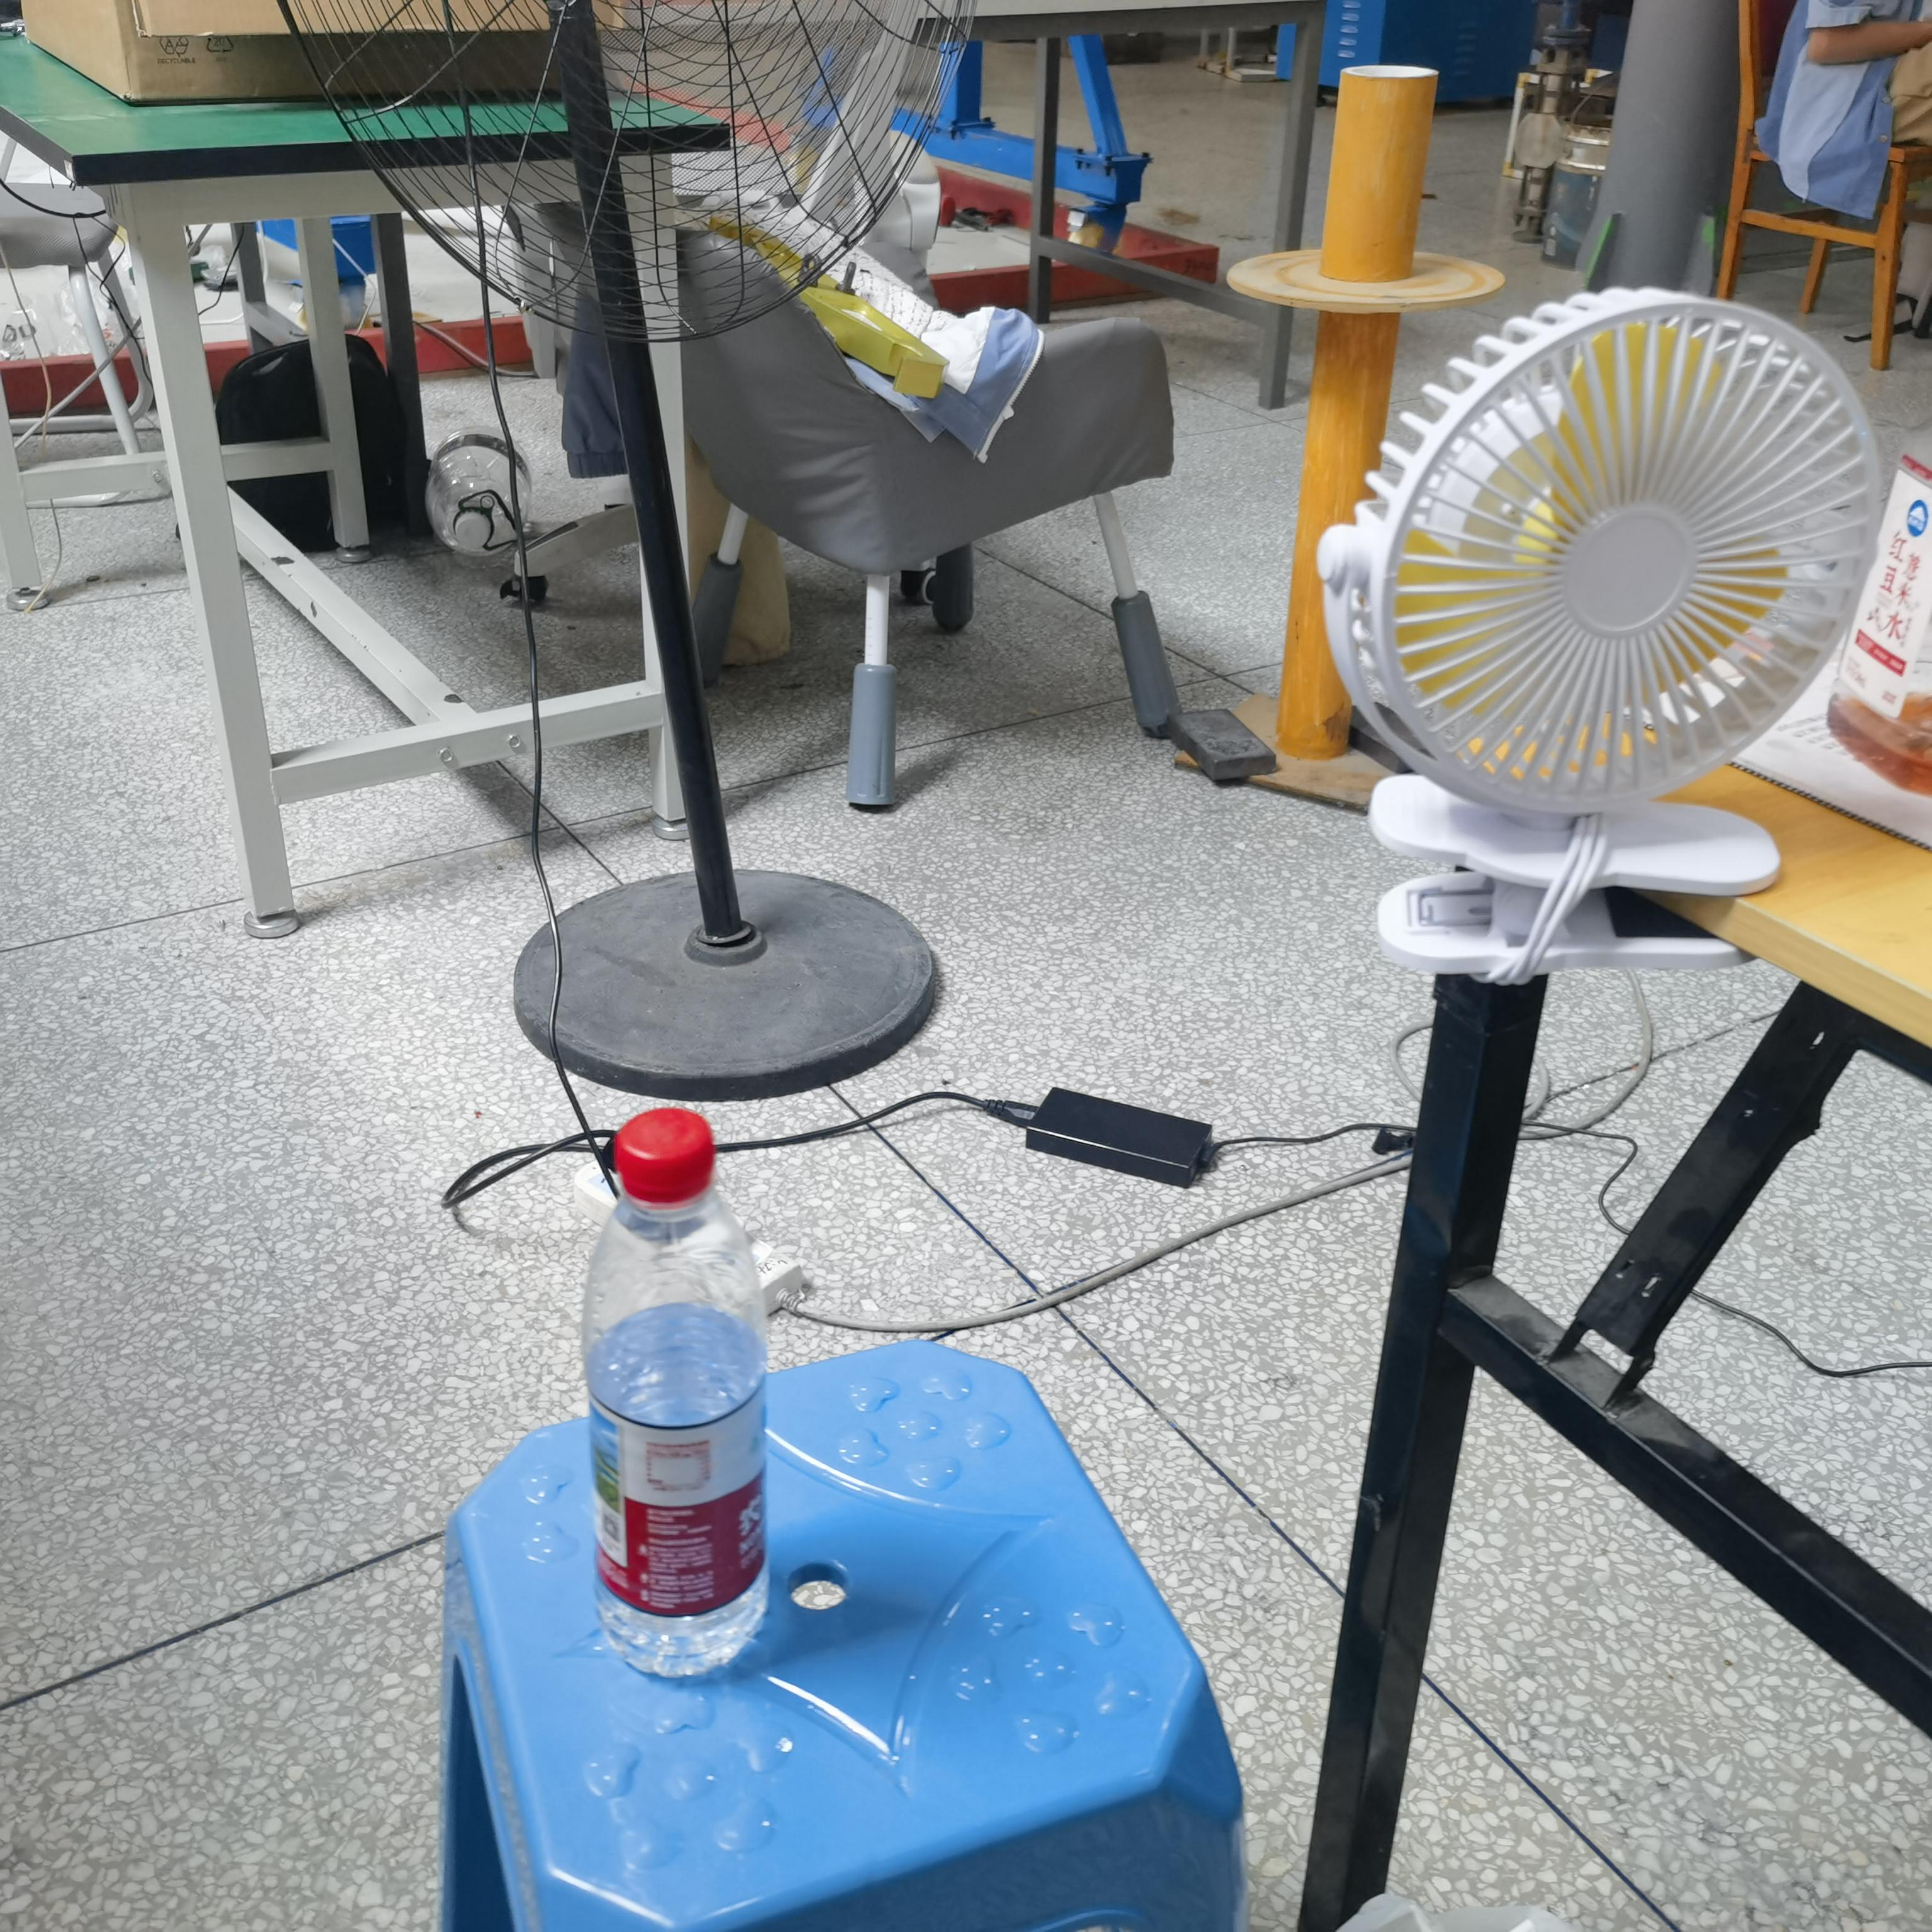bottle: (571, 1099, 780, 1693)
fan: (1315, 269, 1890, 1010)
